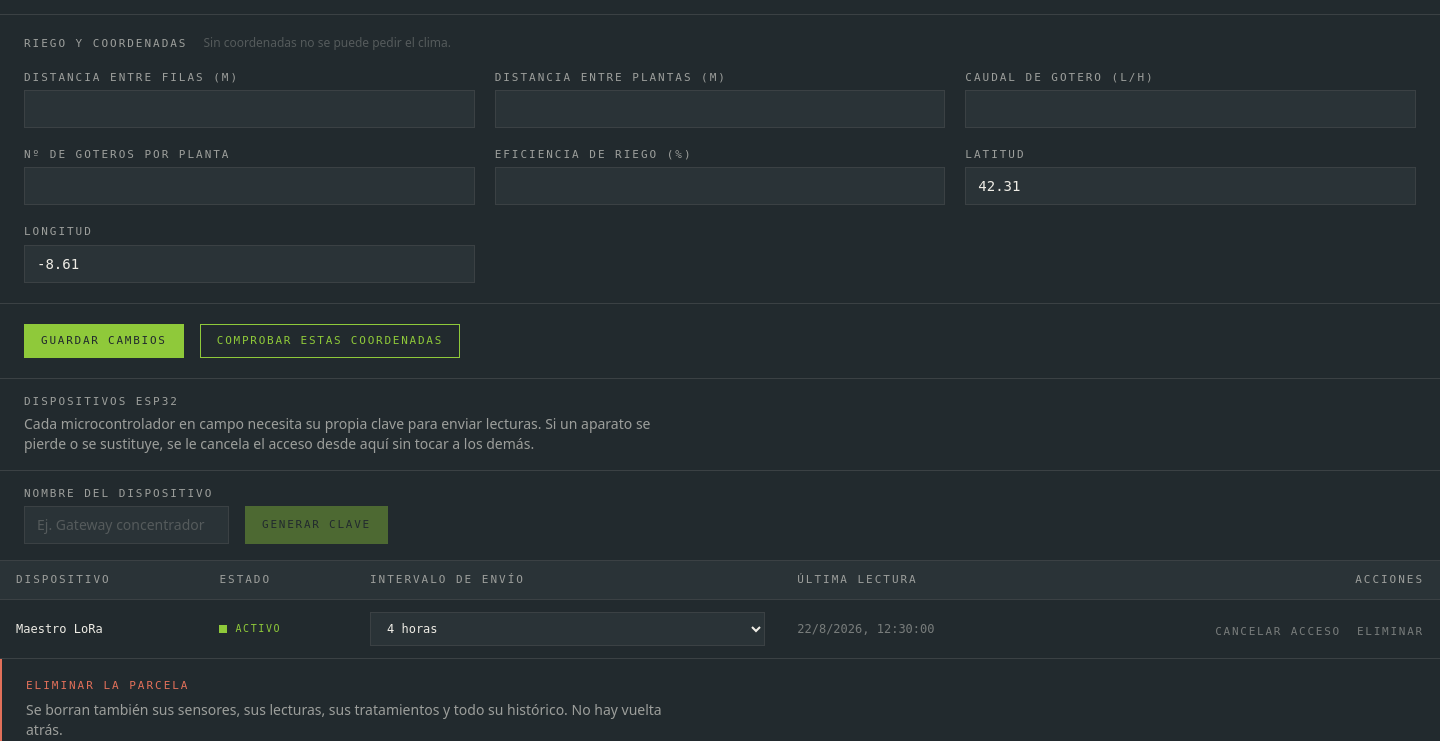
tras cambiar el intervalo se avisa de que no es inmediato
(page scrolled)
Step 1. Select "2 horas" in the dropdown named "Intervalo de envío de Maestro LoRa" → (568, 629), box [370, 612, 765, 646]
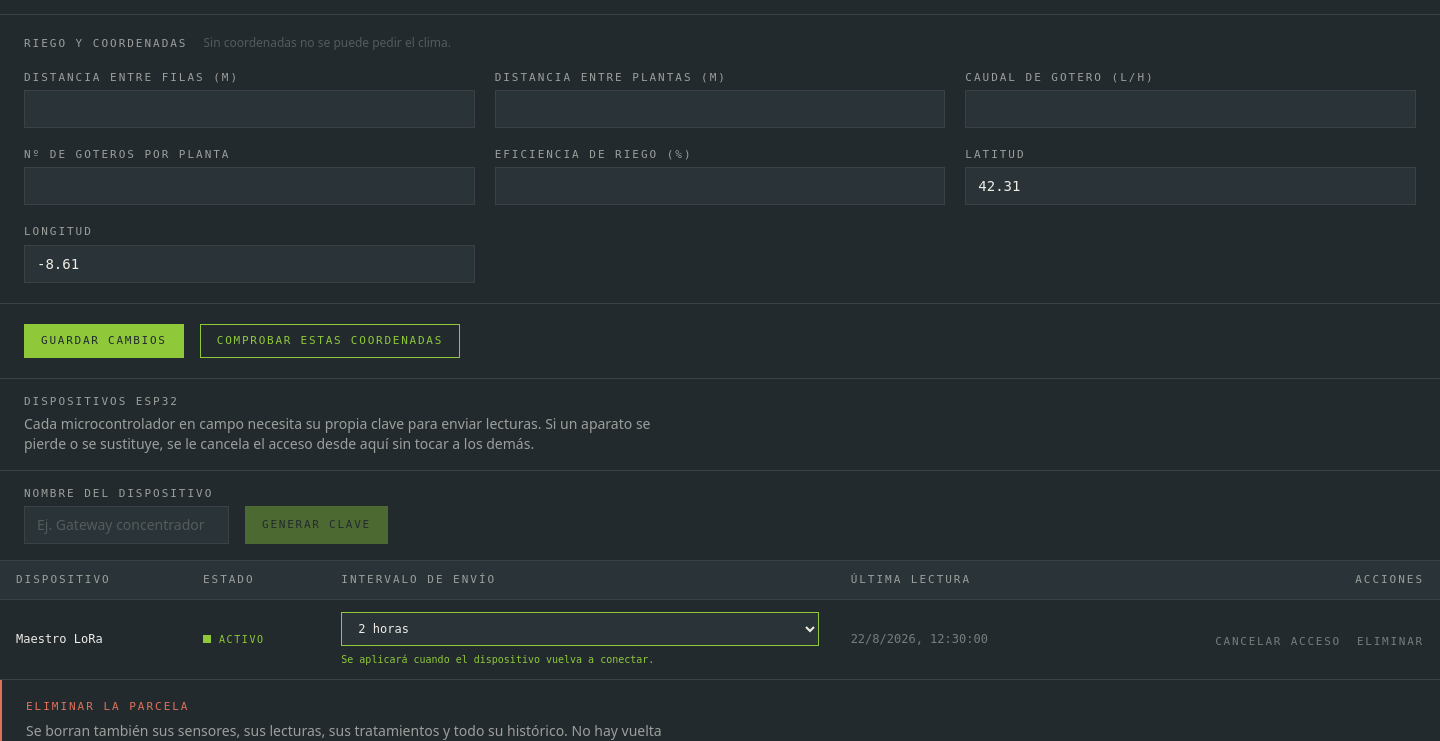
Now the text "Se aplicará cuando el dispositivo vuelva a conectar." is shown, box [341, 654, 654, 665]
